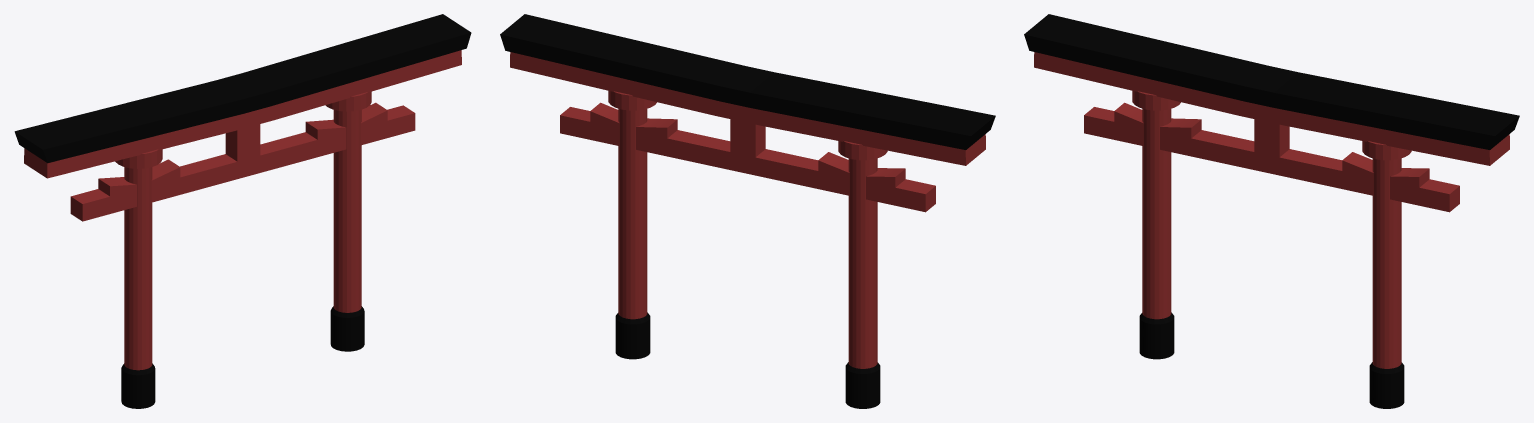
File: TT_Torii.fbx
3 renders of one model, left to right at view 1: azimuth 30°, elevation 25°; view 2: azimuth 150°, elevation 25°; view 3: azimuth 330°, elevation 25°, orthographic. The views are drawn at different scales.
Visible parts, largest first — view 1: Torii; view 2: Torii; view 3: Torii.
Boxes of the visible parts, bbox=[...] form: Torii: bbox=[14, 14, 471, 408]; Torii: bbox=[500, 14, 995, 408]; Torii: bbox=[1024, 14, 1519, 408].
Bounding box in the file's own units: 651 × 408 × 99.75.
